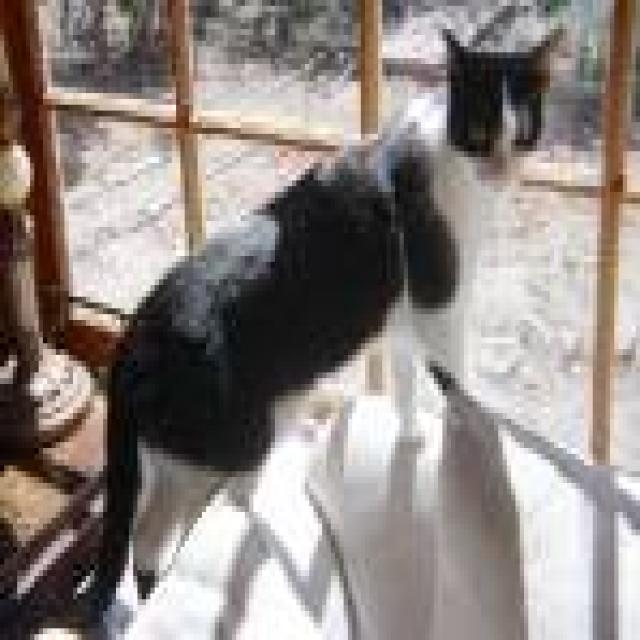cat: (75, 9, 555, 619)
